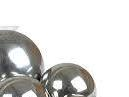ironball: (0, 76, 49, 96), (57, 95, 106, 96)
